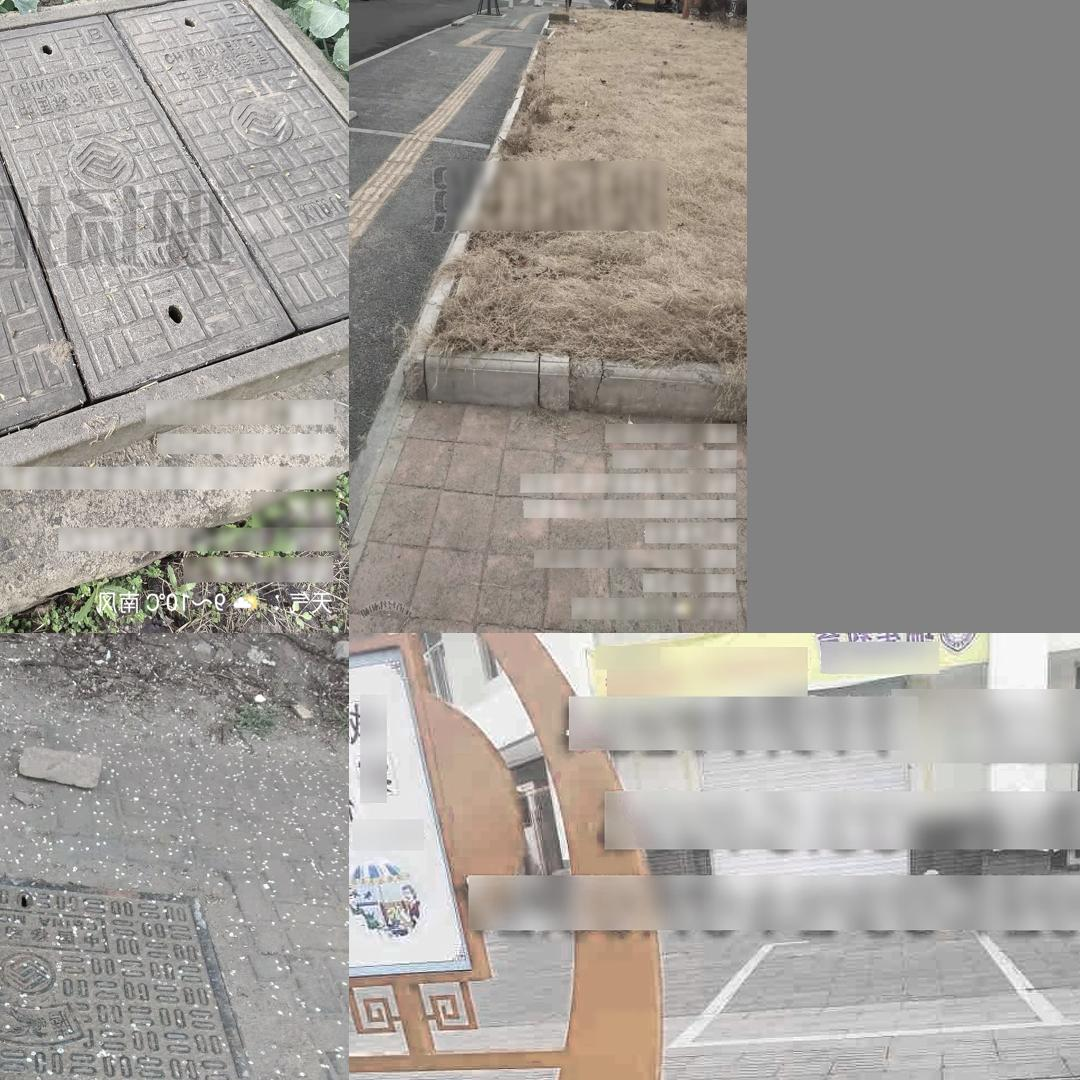good: (0, 0, 348, 541), (0, 865, 253, 1080), (473, 27, 546, 48), (991, 1070, 1080, 1080)
